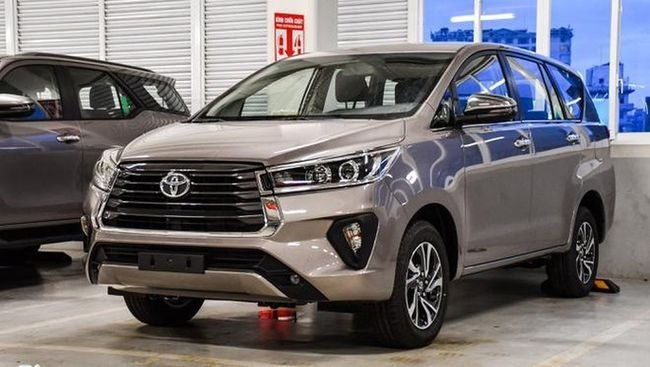mobil: (83, 42, 612, 342)
